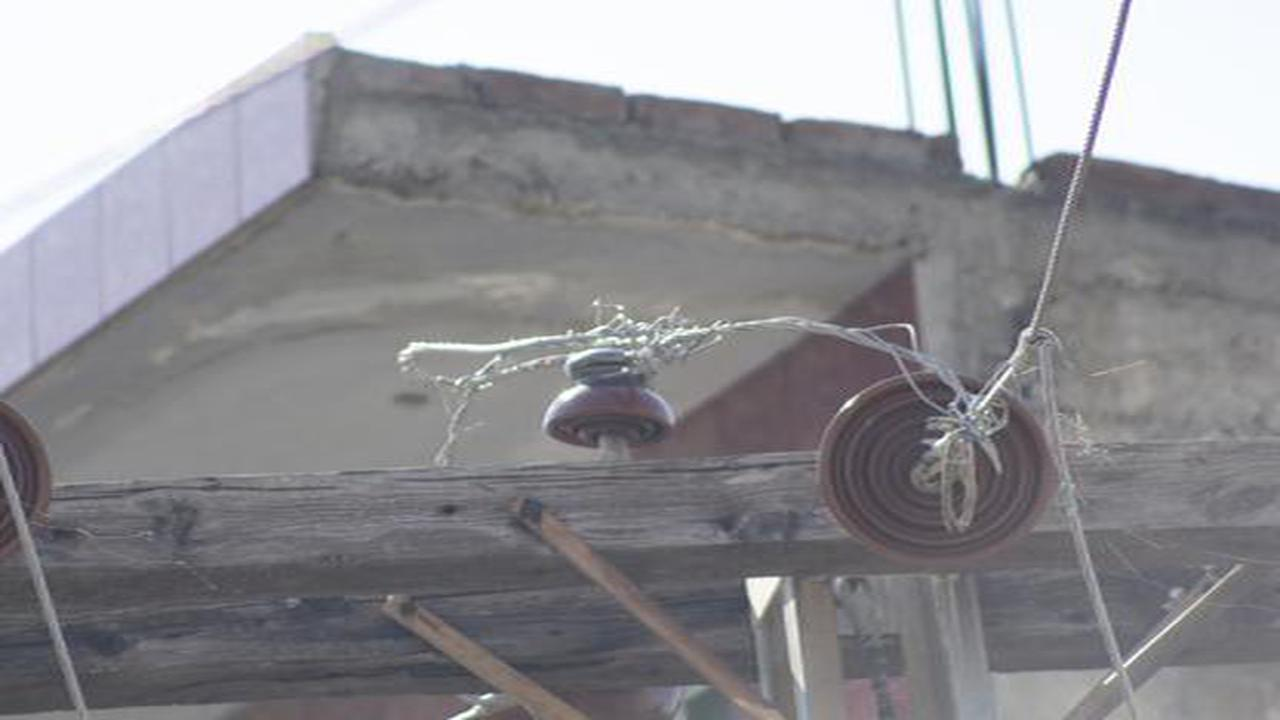insulator_disc: (810, 364, 1065, 580)
insulator_pin: (535, 339, 687, 457)
